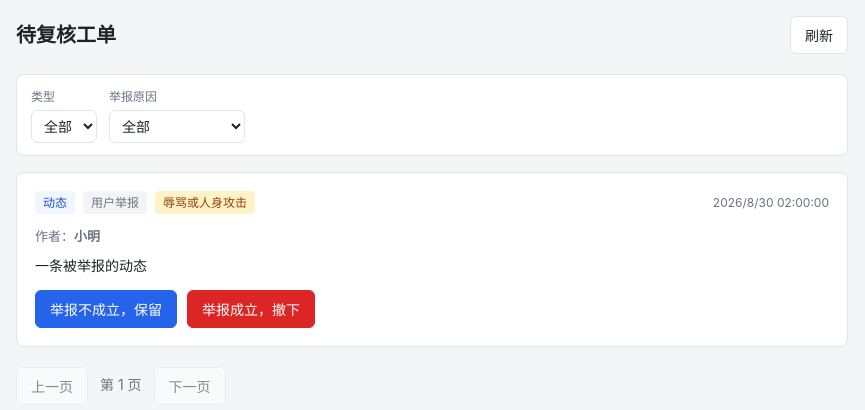
Scenario: 工单页的筛选 › 筛没命中时说的是「换个条件」，不是「队列是空的」
Expected: the text "一条被举报的动态" is shown, 35,257 -> 147,274
Select "诈骗或虚假信息" in the dropdown labelled "举报原因" at (177, 127), box 109,110 -> 245,143
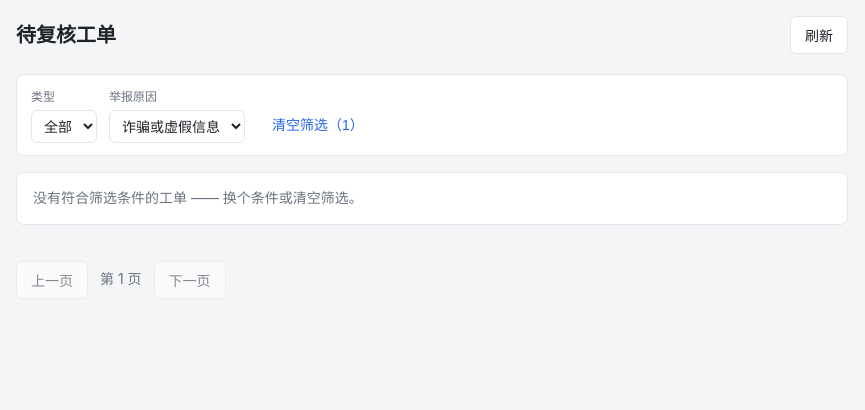
Expected: the text "没有符合筛选条件的工单 —— 换个条件或清空筛选。" is shown, 16,172 -> 848,225
